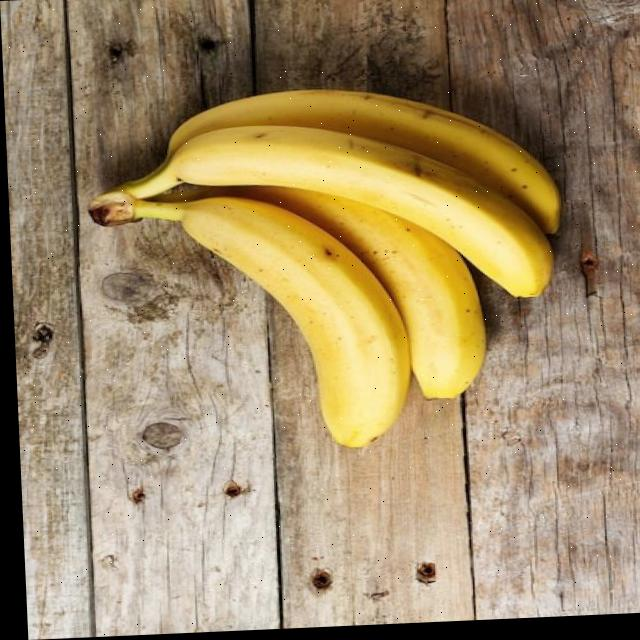banana: (72, 73, 581, 466)
